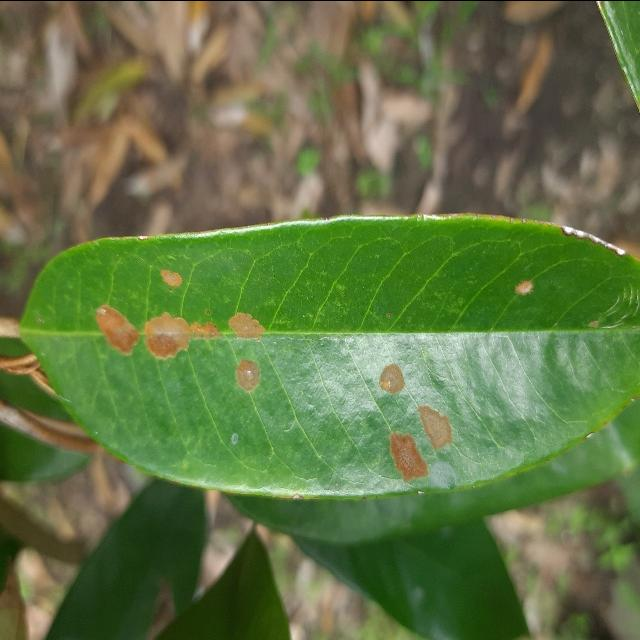Algal Leaf Spot: (13, 205, 640, 507)
